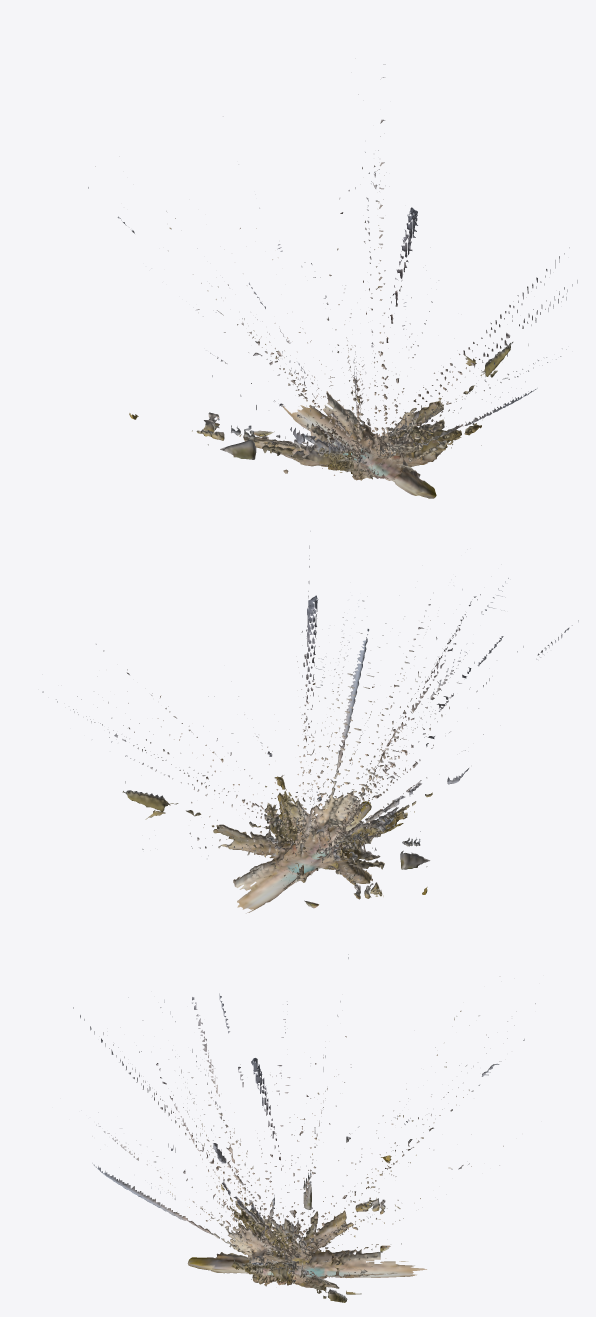
Rendered from dreamlike-coastal-villa-collider.glb.
3 views of the same model, one above another, from view 1: azimuth 30°, elevation 25°; view 2: azimuth 150°, elevation 25°; view 3: azimuth 270°, elevation 25° (orthographic). The views are drawn at different scales.
Parts seen in each view (by area): view 1: world; view 2: world; view 3: world.
Boxes of the visible parts, bbox=[...] form: world: bbox=[88, 64, 577, 498]; world: bbox=[42, 531, 578, 913]; world: bbox=[73, 954, 535, 1302].
Bounding box in the file's own units: 101 × 76.86 × 151.
